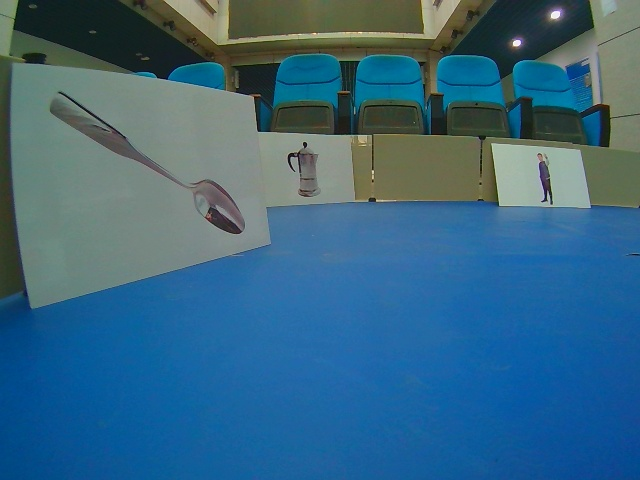dish: (10, 62, 272, 309), (260, 130, 355, 206)
person: (491, 143, 592, 208)
